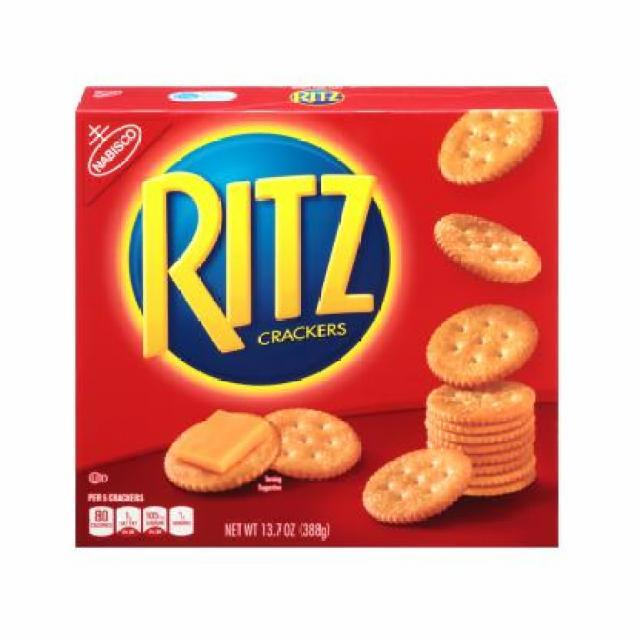Ritz cracker: (71, 81, 574, 554)
